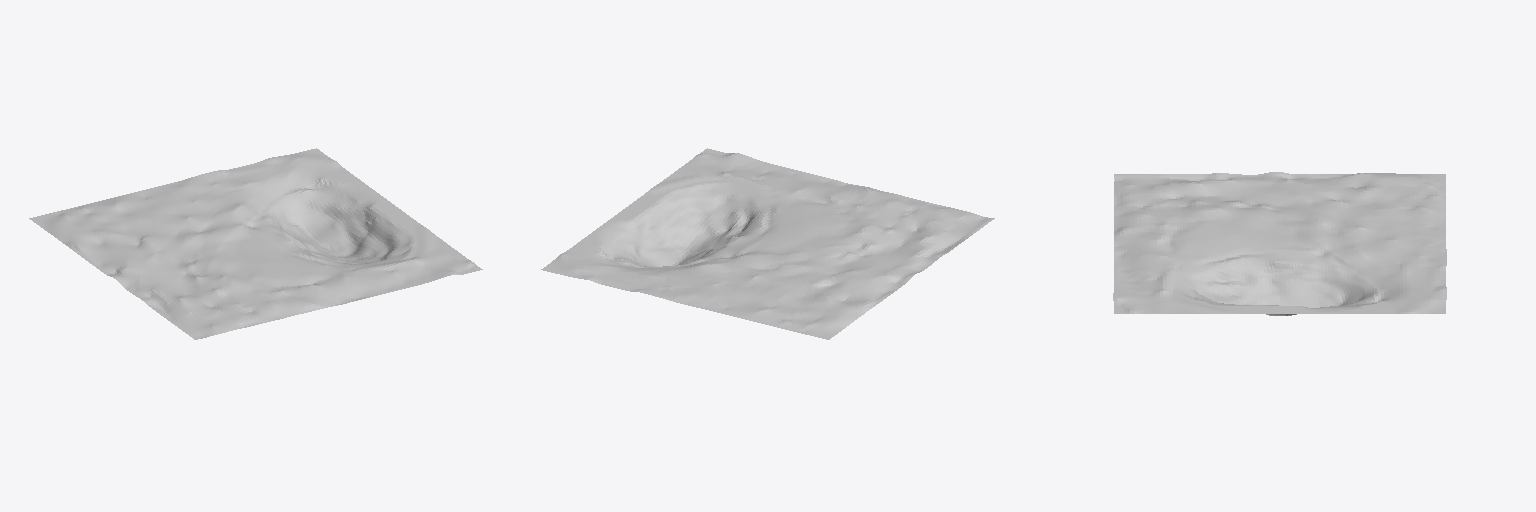
The model's file is ground.obj.
The picture shows the model from 3 angles: view 1: azimuth 30°, elevation 25°; view 2: azimuth 150°, elevation 25°; view 3: azimuth 270°, elevation 25°; orthographic projection.
Visible parts, largest first — view 1: Plane; view 2: Plane; view 3: Plane.
Boxes of the visible parts, x1,y1,x2,y2 form: Plane: [29, 148, 482, 339]; Plane: [541, 148, 994, 339]; Plane: [1113, 172, 1446, 315].
Bounding box in the file's own units: 42.75 × 4.77 × 42.81.